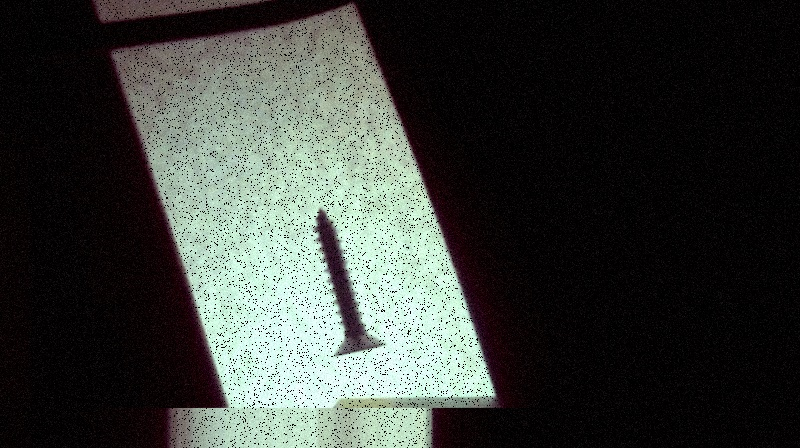S001: (309, 205, 389, 361)
